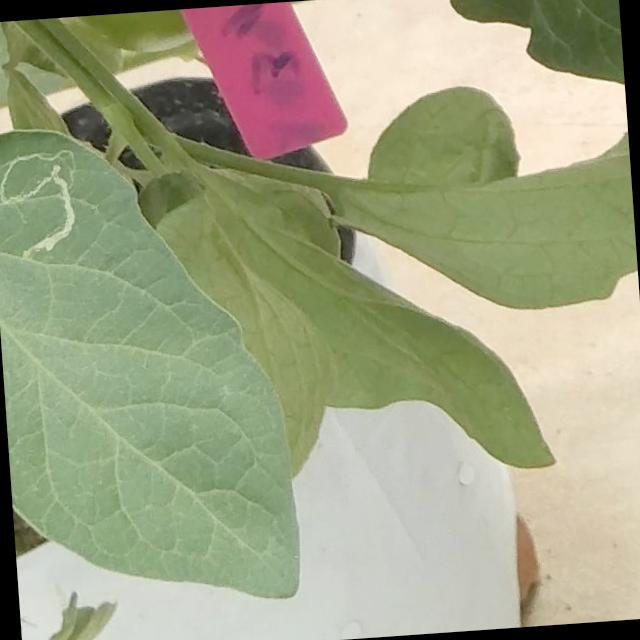Tomato target spot leaf: (0, 99, 305, 620)
